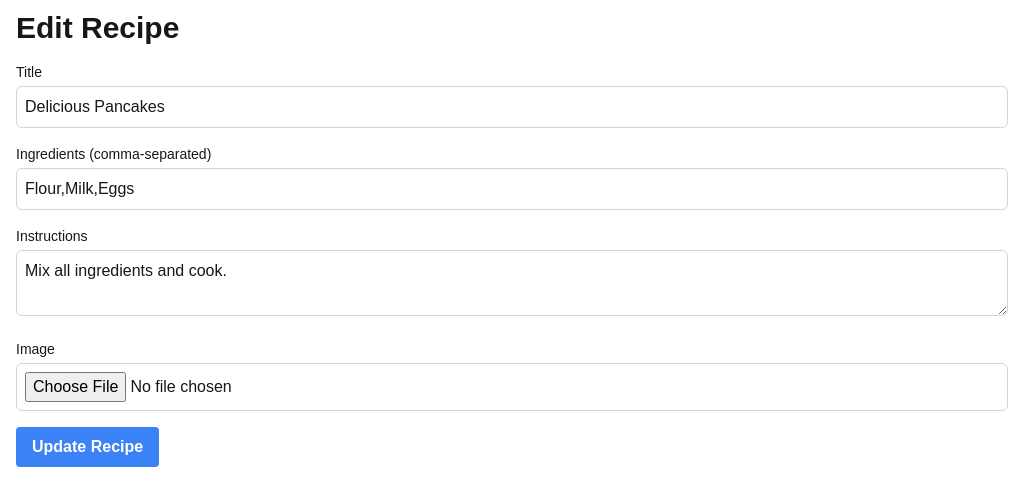
Test: EditRecipePage › displays validation errors when form fields are empty
The image size is (1025, 504).
Clear title input and submit the form
Clear the field showing "Delicious Pancakes" below "Title": (512, 107) 16,86 -> 1008,128
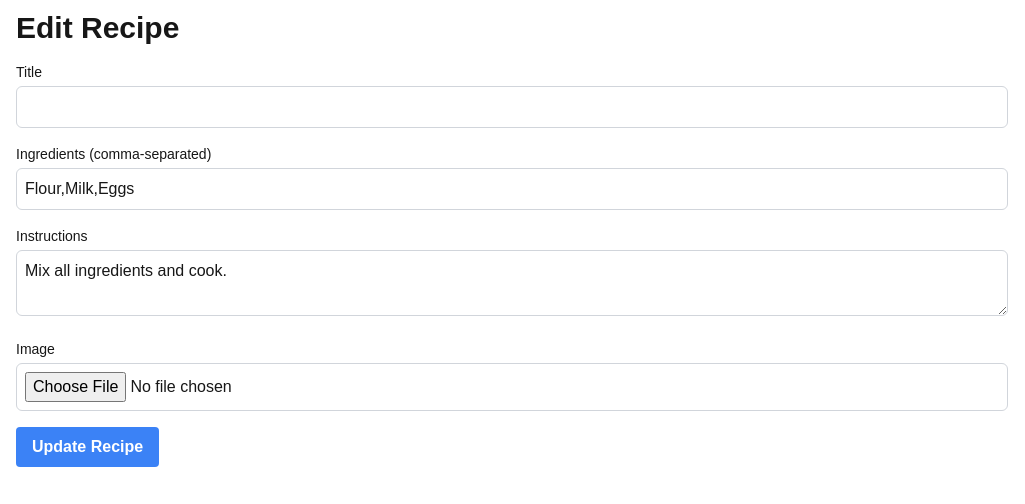
Click the button "Update Recipe": (88, 447) 16,427 -> 159,467
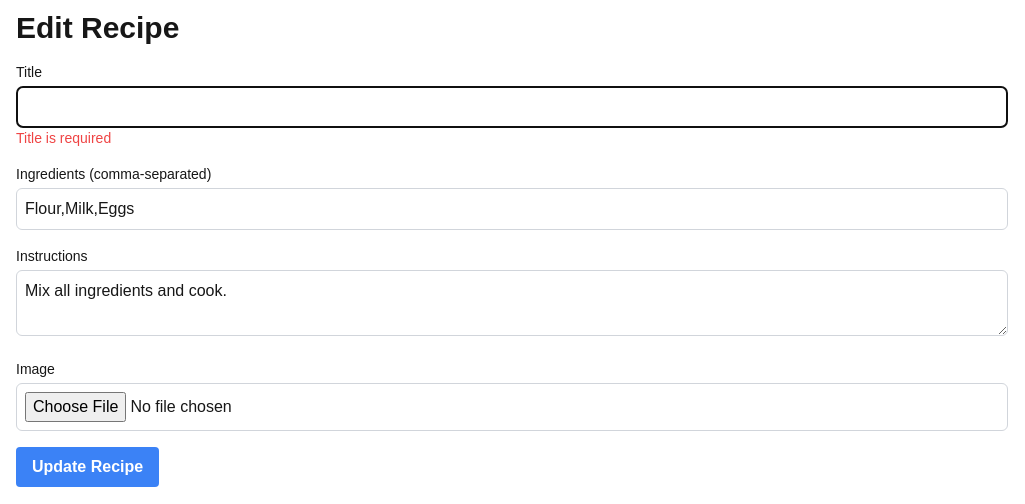
Now the text "Title is required" is shown, box 16,130 -> 111,146
